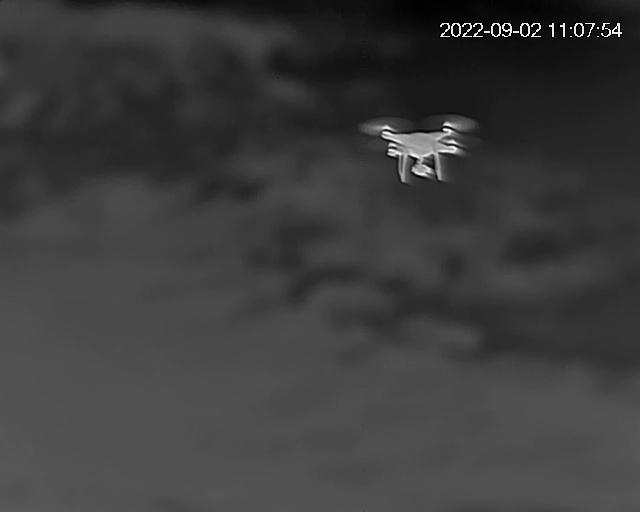DJI-Phantom: (359, 117, 478, 181)
